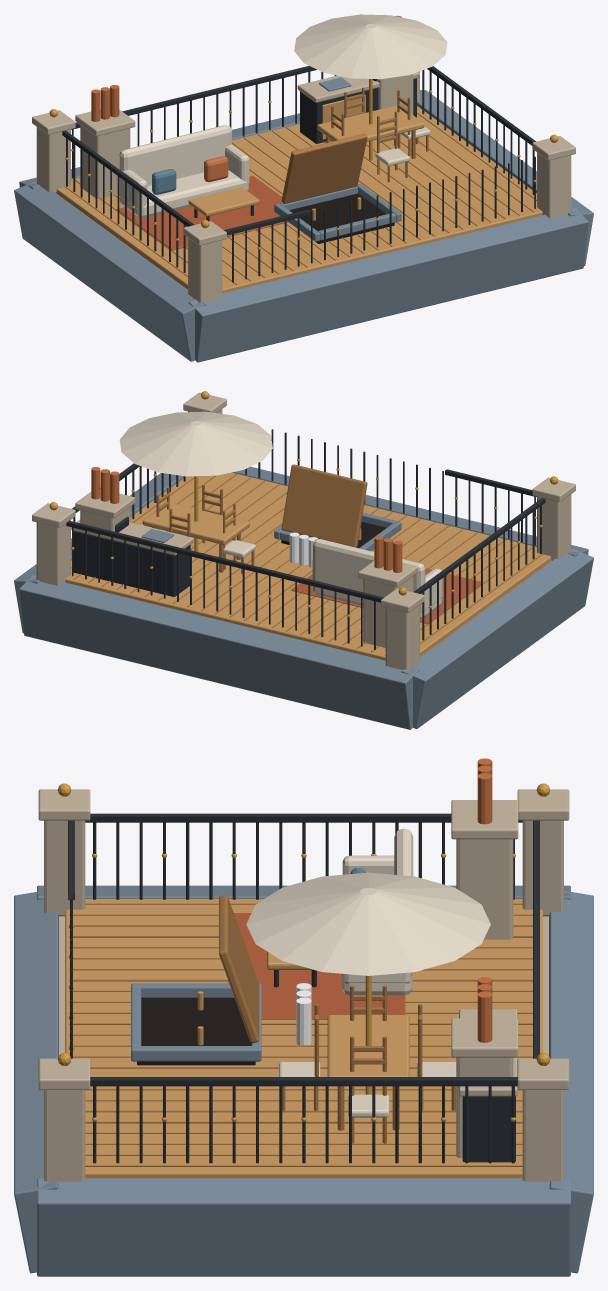
The model's file is env_decor.glb.
3 views of the same model, one above another, from view 1: azimuth 30°, elevation 25°; view 2: azimuth 150°, elevation 25°; view 3: azimuth 270°, elevation 25° (orthographic). The views are drawn at different scales.
Visible parts, largest first — view 1: rooftop_zinc_edge, rooftop_wood_deck, rooftop_zinc_side, umbrella_canopy, decor_rooftop_hatch_lid, sofa_back.001, rooftop_rug, rooftop_zinc_side.001, rooftop_chimney_00, rooftop_corner_post_0, rooftop_corner_post_1, sofa_base.001 (+25 smaller); view 2: rooftop_zinc_edge.001, rooftop_wood_deck, rooftop_zinc_side, umbrella_canopy, decor_rooftop_hatch_lid, kitchen_base.001, sofa_back.001, rooftop_zinc_edge, dining_top.001, railing_back_top, rooftop_corner_post_2, rooftop_corner_post_3 (+16 smaller); view 3: rooftop_wood_deck, rooftop_zinc_side.001, umbrella_canopy, rooftop_zinc_edge, rooftop_zinc_edge.001, decor_rooftop_hatch_void, rooftop_rug, rooftop_chimney_00, dining_top.001, railing_right_top, rooftop_corner_post_1, rooftop_corner_post_3 (+31 smaller).
Part boxes in pixels (x1,y1,x2,y2): rooftop_zinc_edge: (188, 207, 588, 362); rooftop_wood_deck: (56, 106, 542, 293); rooftop_zinc_side: (14, 180, 206, 361); umbrella_canopy: (294, 14, 447, 79); decor_rooftop_hatch_lid: (281, 133, 367, 204); sofa_back.001: (119, 125, 231, 185); rooftop_rug: (116, 176, 288, 250); rooftop_zinc_side.001: (417, 90, 593, 265); rooftop_chimney_00: (80, 125, 130, 198); rooftop_corner_post_0: (188, 238, 222, 302); rooftop_corner_post_1: (537, 152, 571, 218); sofa_base.001: (119, 170, 248, 218); rooftop_zinc_edge.001: (19, 574, 419, 729); rooftop_wood_deck: (65, 472, 551, 660); rooftop_zinc_side: (401, 548, 593, 728); umbrella_canopy: (119, 411, 272, 476); decor_rooftop_hatch_lid: (281, 464, 367, 547); kitchen_base.001: (73, 531, 190, 596); sofa_back.001: (313, 539, 425, 608); rooftop_zinc_edge: (232, 466, 588, 556); dining_top.001: (142, 502, 249, 544); railing_back_top: (66, 520, 383, 602); rooftop_corner_post_2: (385, 605, 419, 669); rooftop_corner_post_3: (36, 520, 70, 585); rooftop_wood_deck: (65, 899, 542, 1177); rooftop_zinc_side.001: (37, 1178, 570, 1276); umbrella_canopy: (246, 872, 490, 975); rooftop_zinc_edge: (14, 890, 58, 1273); rooftop_zinc_edge.001: (549, 890, 593, 1273); decor_rooftop_hatch_void: (137, 997, 255, 1065); rooftop_rug: (228, 913, 405, 1019); rooftop_chimney_00: (456, 839, 513, 939); dining_top.001: (327, 1015, 409, 1076); railing_right_top: (90, 1077, 517, 1086); rooftop_corner_post_1: (44, 1090, 85, 1181); rooftop_corner_post_3: (522, 1090, 563, 1181).
Size of the model in its own units: 8.73 by 4.08 by 6.73.
